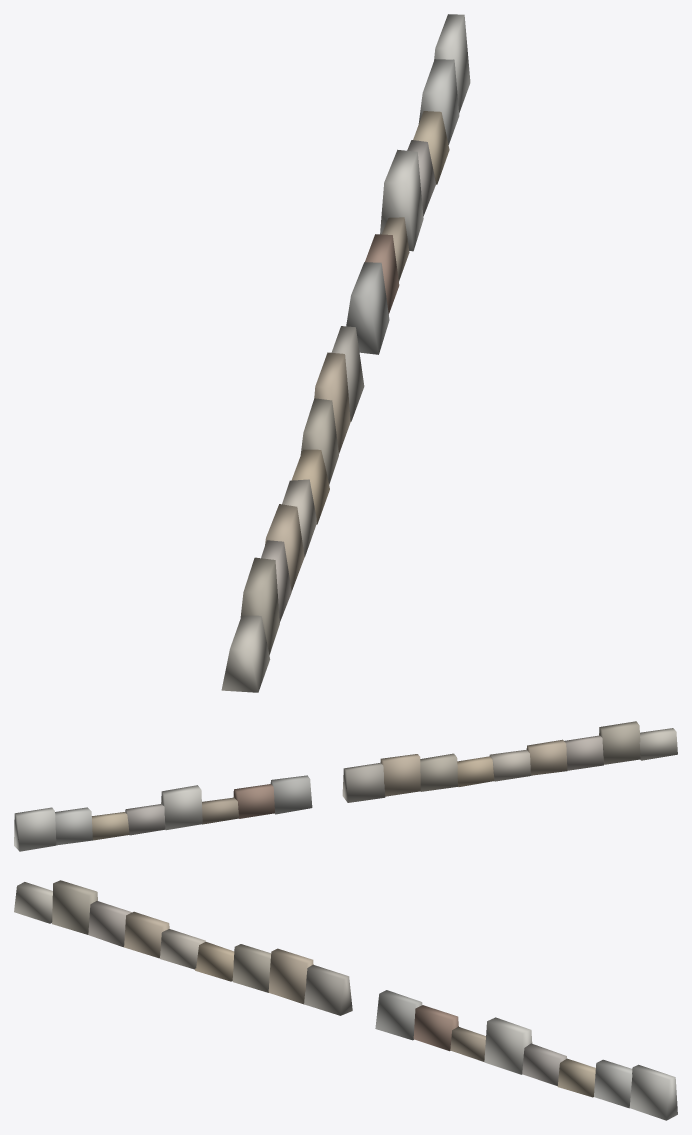
The model's file is farm_7_16_far.glb.
3 views of the same model, one above another, from view 1: azimuth 30°, elevation 25°; view 2: azimuth 150°, elevation 25°; view 3: azimuth 270°, elevation 25° (orthographic). The views are drawn at different scales.
Parts seen in each view (by area): view 1: geometry_0; view 2: geometry_0; view 3: geometry_0.
Boxes of the visible parts, left/top/right/bottom form: geometry_0: left=221, top=14, right=470, bottom=692; geometry_0: left=14, top=721, right=677, bottom=851; geometry_0: left=14, top=880, right=677, bottom=1120.
Bounding box in the file's own units: 18.49 × 1.97 × 22.8.
